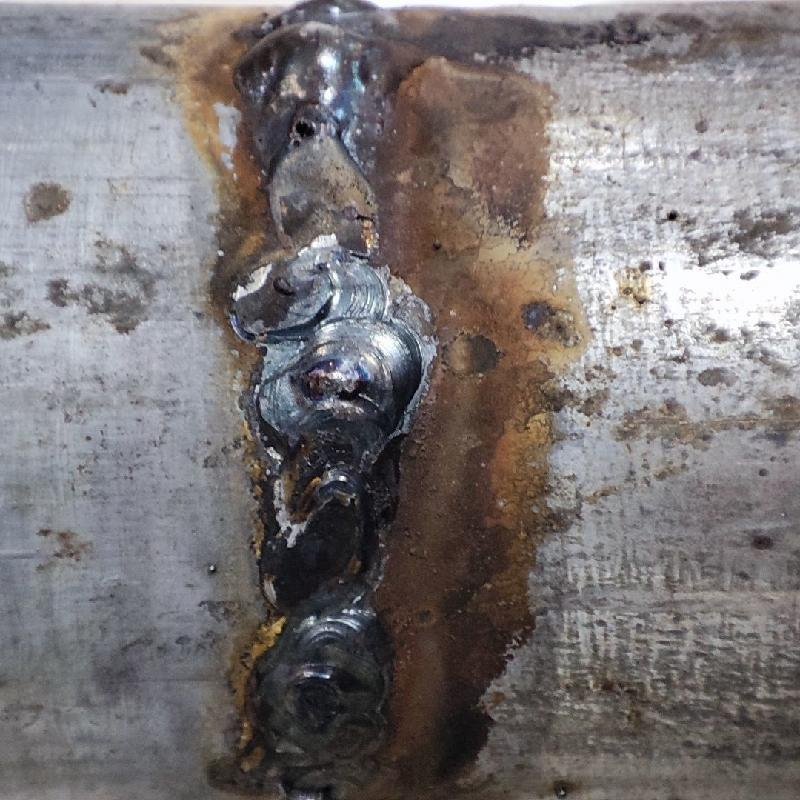Not_fully_soldered: (232, 154, 395, 255)
Surface_pores: (276, 109, 339, 146)
Weld: (233, 2, 381, 152)
wrong_size: (234, 257, 419, 765)
